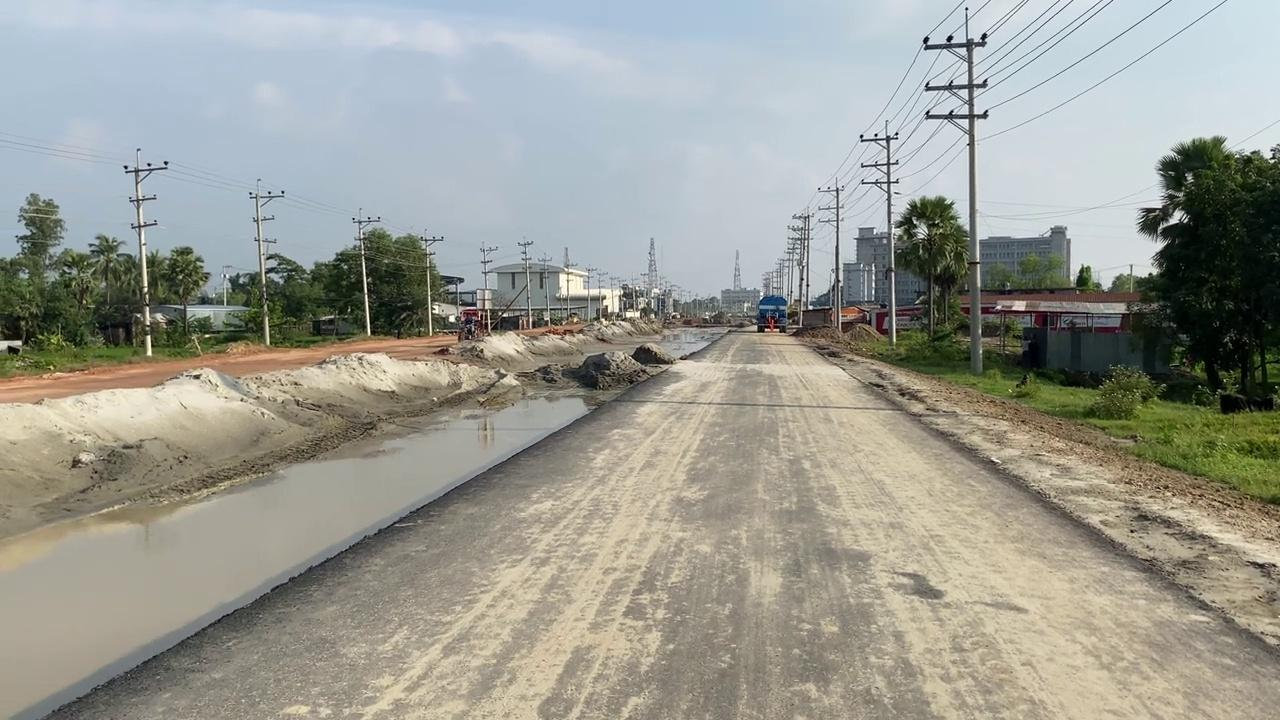Muddy road: (28, 323, 1277, 718)
Pole: (921, 6, 990, 374), (123, 147, 168, 357), (859, 119, 900, 346), (248, 179, 284, 346), (351, 207, 380, 335)
Sidewalk: (2, 389, 608, 719)
Stuck-water: (766, 314, 776, 332)
Traffic-sign: (1133, 133, 1279, 399), (892, 193, 971, 338), (160, 244, 209, 337)
Tree: (755, 294, 789, 333)
